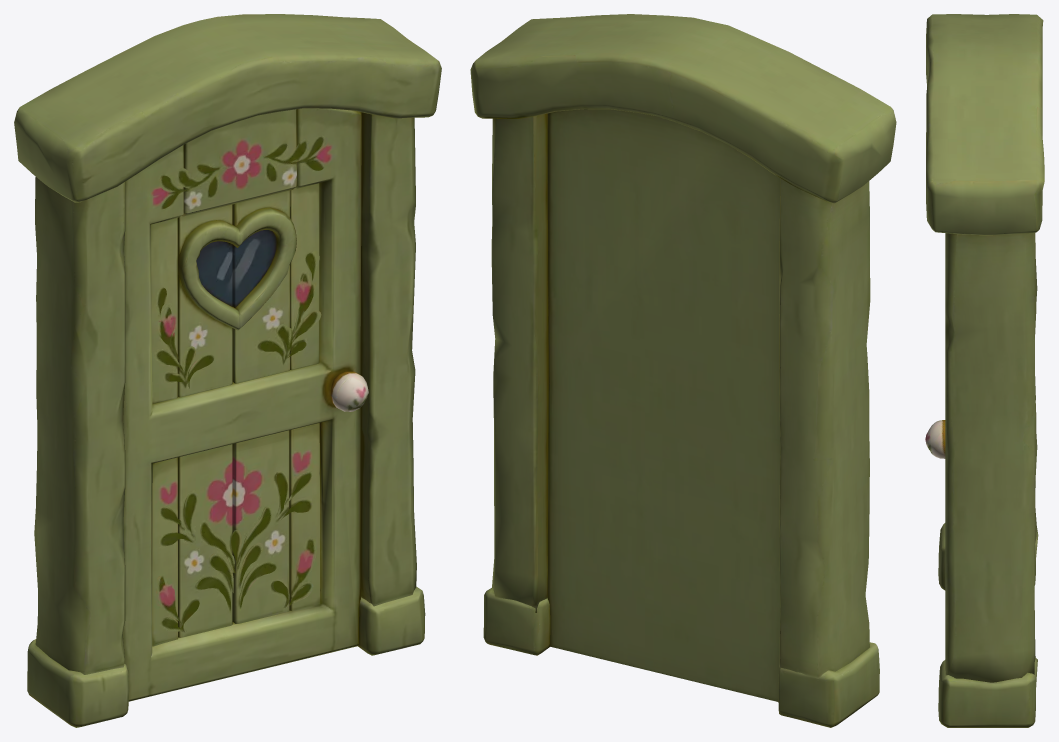
The model's file is porte_champetre.glb.
3 views of the same model, side by side, from view 1: azimuth 30°, elevation 25°; view 2: azimuth 150°, elevation 25°; view 3: azimuth 270°, elevation 25° (orthographic). The views are drawn at different scales.
Visible parts, largest first — view 1: geometry_0; view 2: geometry_0; view 3: geometry_0.
Boxes of the visible parts, bbox=[...] form: geometry_0: bbox=[14, 14, 441, 727]; geometry_0: bbox=[470, 14, 896, 727]; geometry_0: bbox=[925, 14, 1044, 727].
Size of the model in its own units: 0.5997 by 0.9512 by 0.1738.
Materials: 1 (1 with a texture image).
